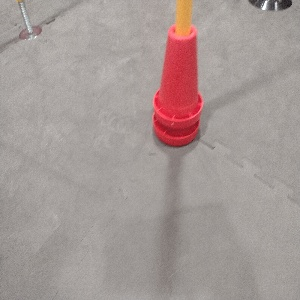Red_2: (151, 24, 203, 146)
